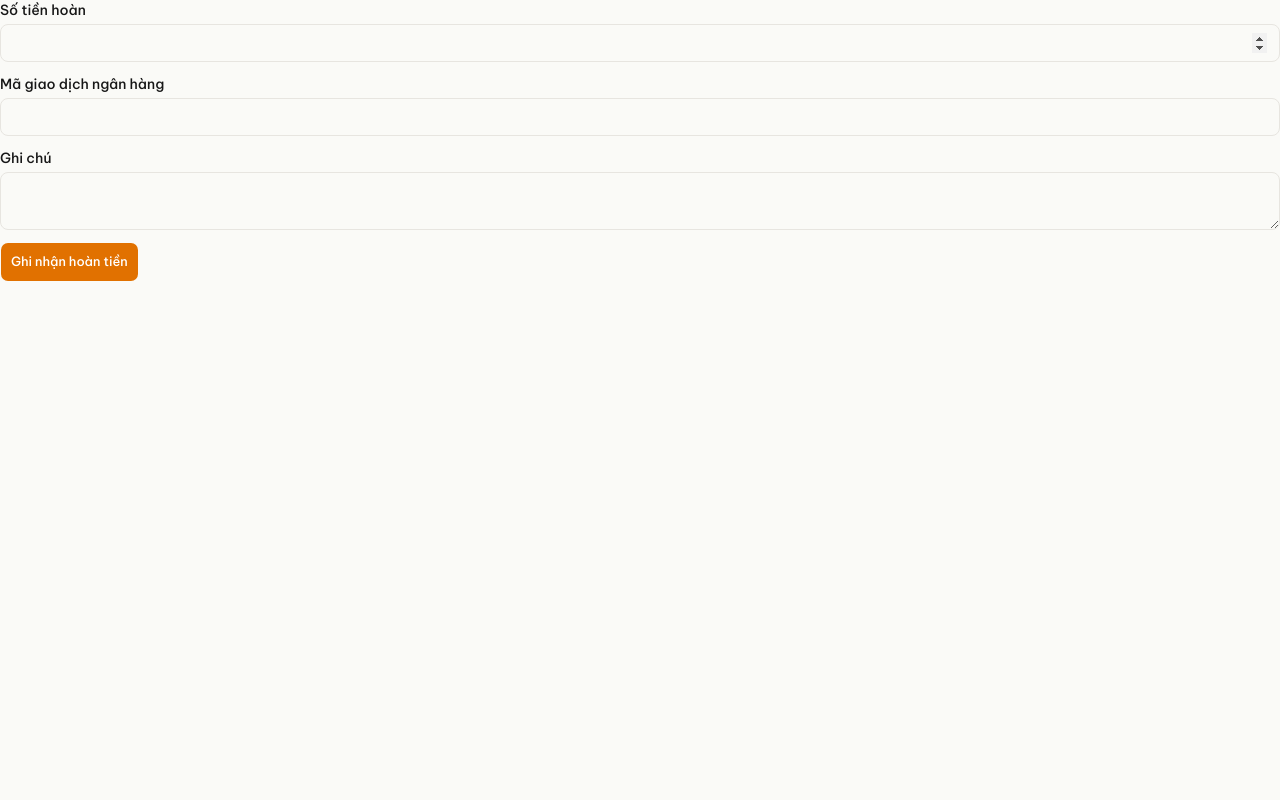
Test: RefundForm › shows returned errors in an alert
Type "999999" into the number field labelled "Số tiền hoàn" at [640, 43], box [0,24,1279,62]
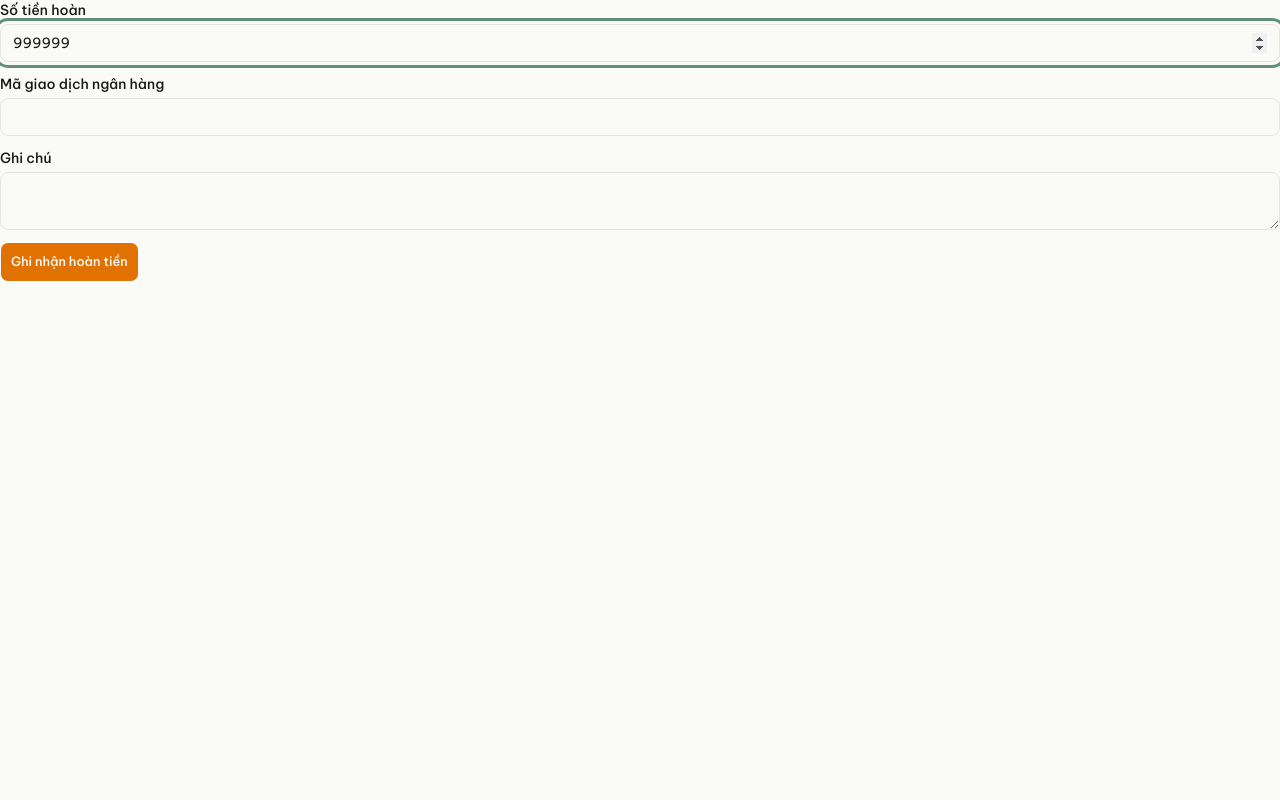
Click the button "Ghi nhận hoàn tiền" at [69, 262], box [0,242,139,282]
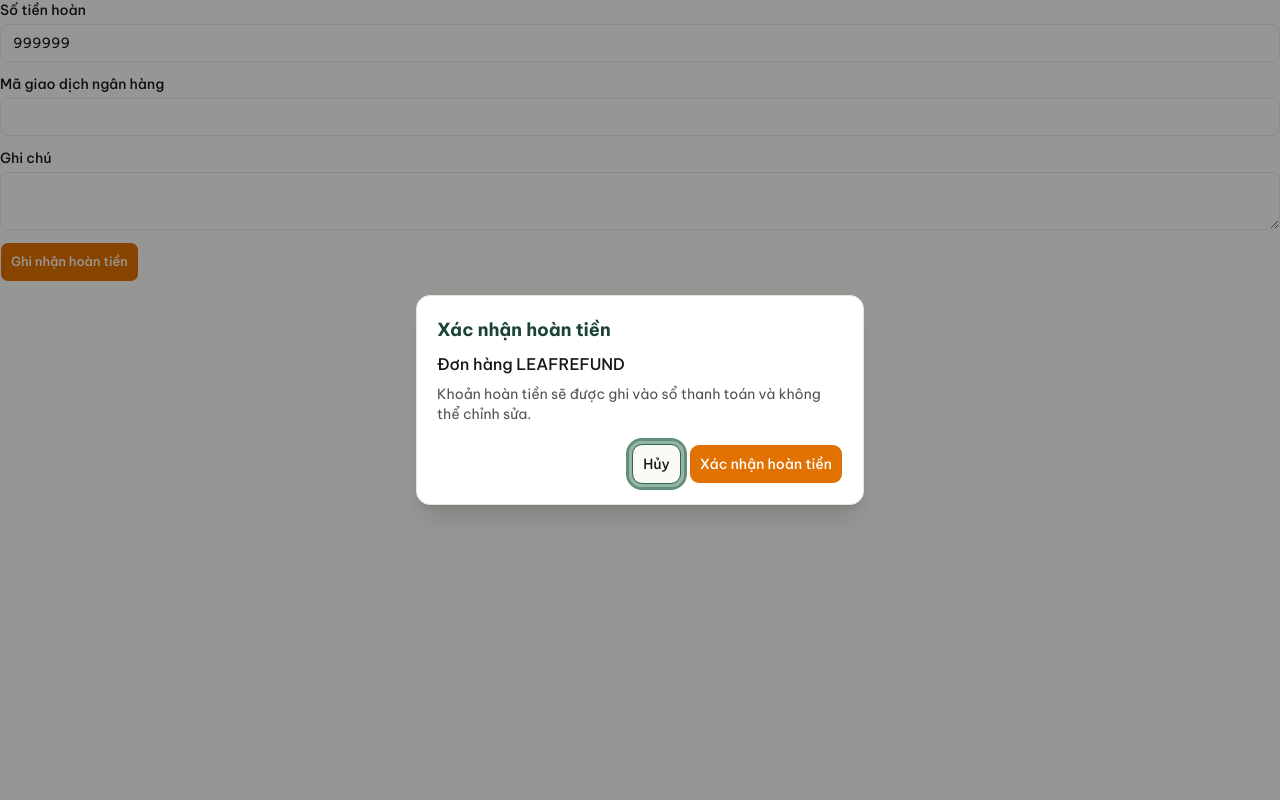
Click the button "Xác nhận hoàn tiền" at [766, 464], box [689,444,843,484]
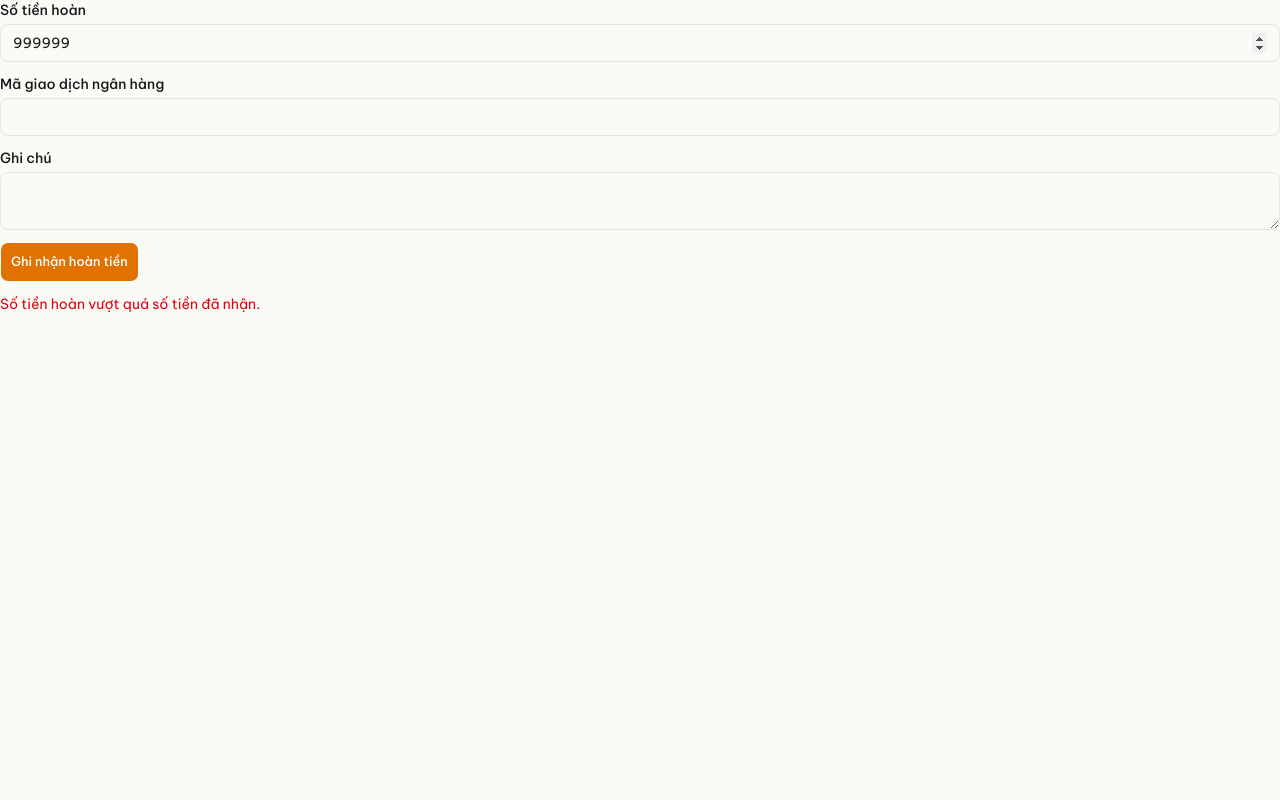
Expected: the message reads "Số tiền hoàn vượt quá số tiền đã nhận.", [0,295,260,313]
